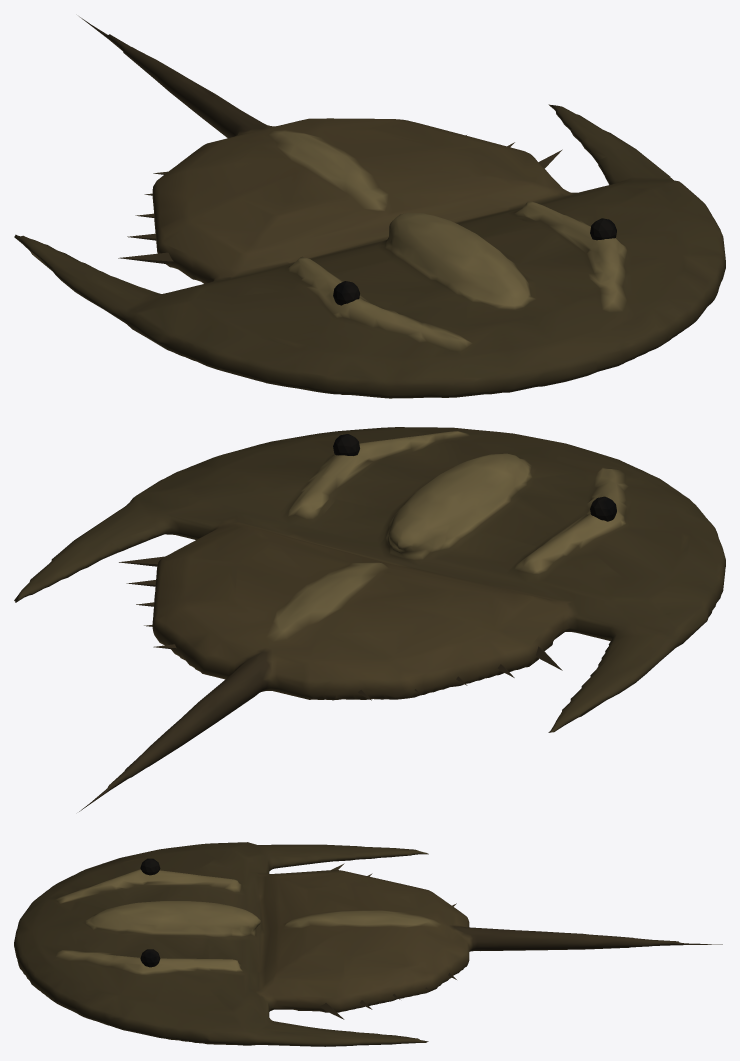
The model's file is Euproops.fbx.
3 renders of one model, top to bottom at view 1: azimuth 30°, elevation 25°; view 2: azimuth 150°, elevation 25°; view 3: azimuth 270°, elevation 25°, orthographic. The views are drawn at different scales.
Parts seen in each view (by area): view 1: Euproops; view 2: Euproops; view 3: Euproops.
Boxes of the visible parts, x1,y1,x2,y2 form: Euproops: [14, 16, 725, 398]; Euproops: [14, 427, 725, 811]; Euproops: [14, 842, 722, 1046].
Bounding box in the file's own units: 0.7498 × 0.0846 × 1.14.
